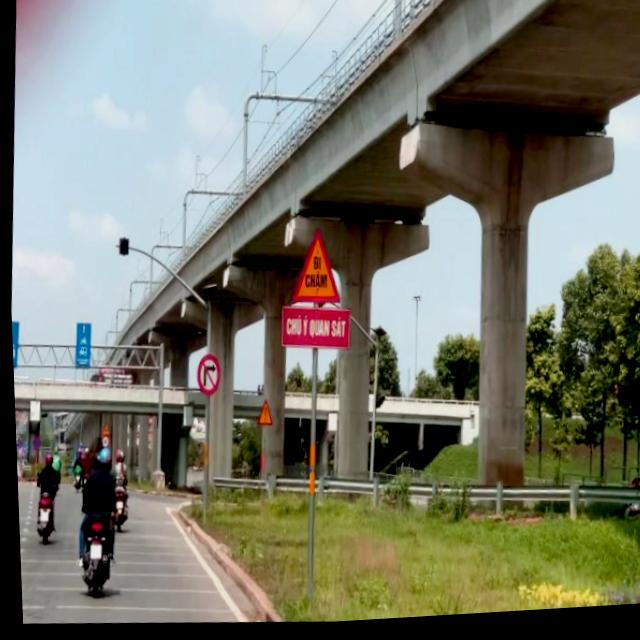Cam re phai: (191, 353, 220, 400)
Di cham: (285, 227, 346, 312)
